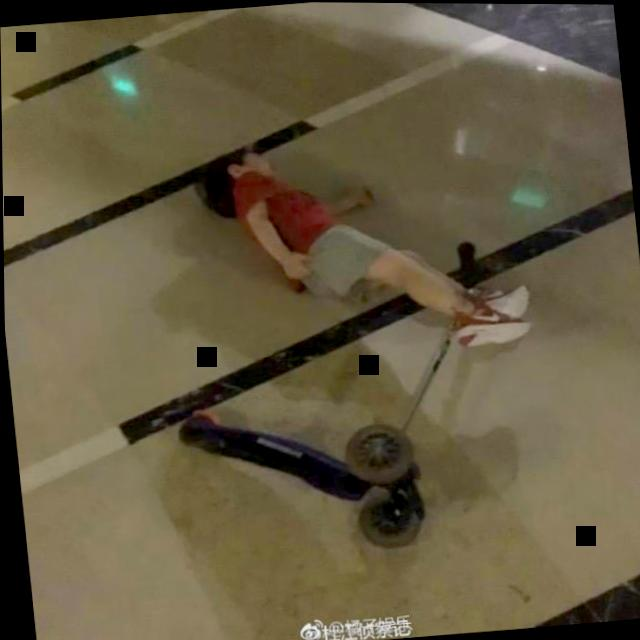Fall-Detected: (182, 116, 534, 367)
